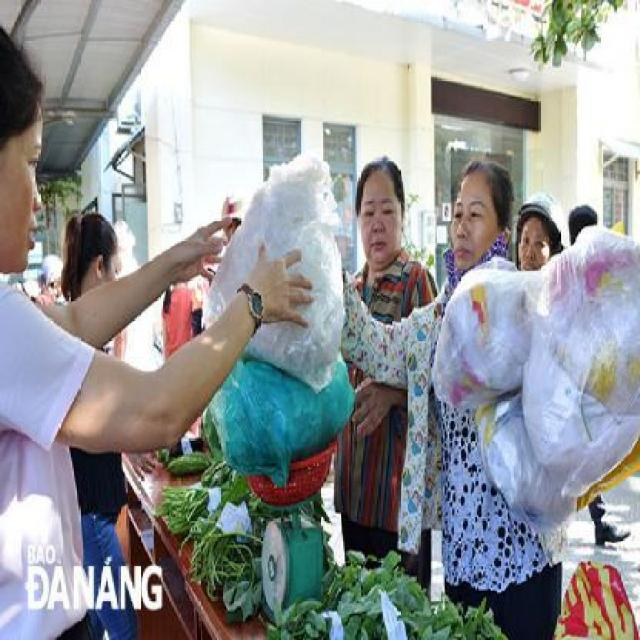plastic bag: (450, 220, 636, 558), (185, 154, 340, 494)
